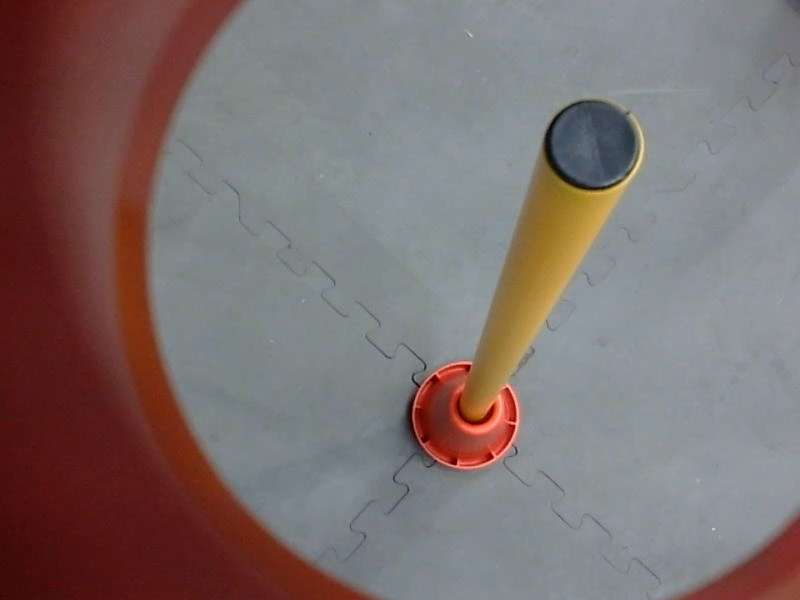tip: (536, 91, 649, 196)
